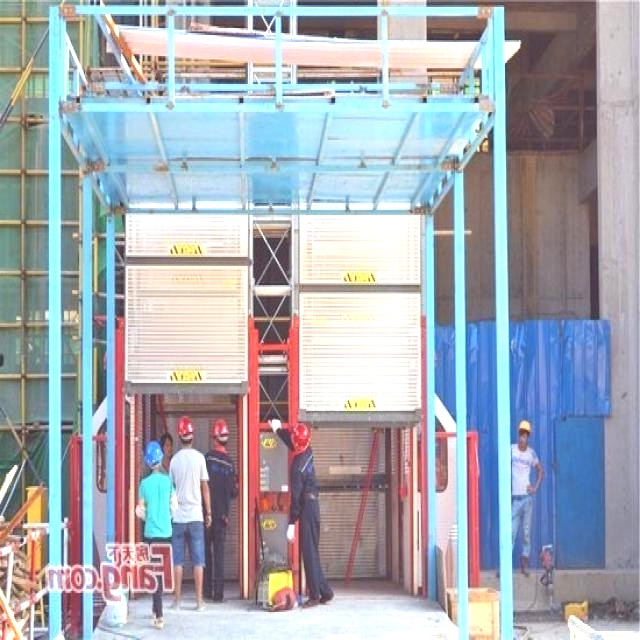Con_Casco: (292, 420, 311, 453)
Sin_Chaleco: (169, 449, 204, 519), (142, 471, 172, 536)
